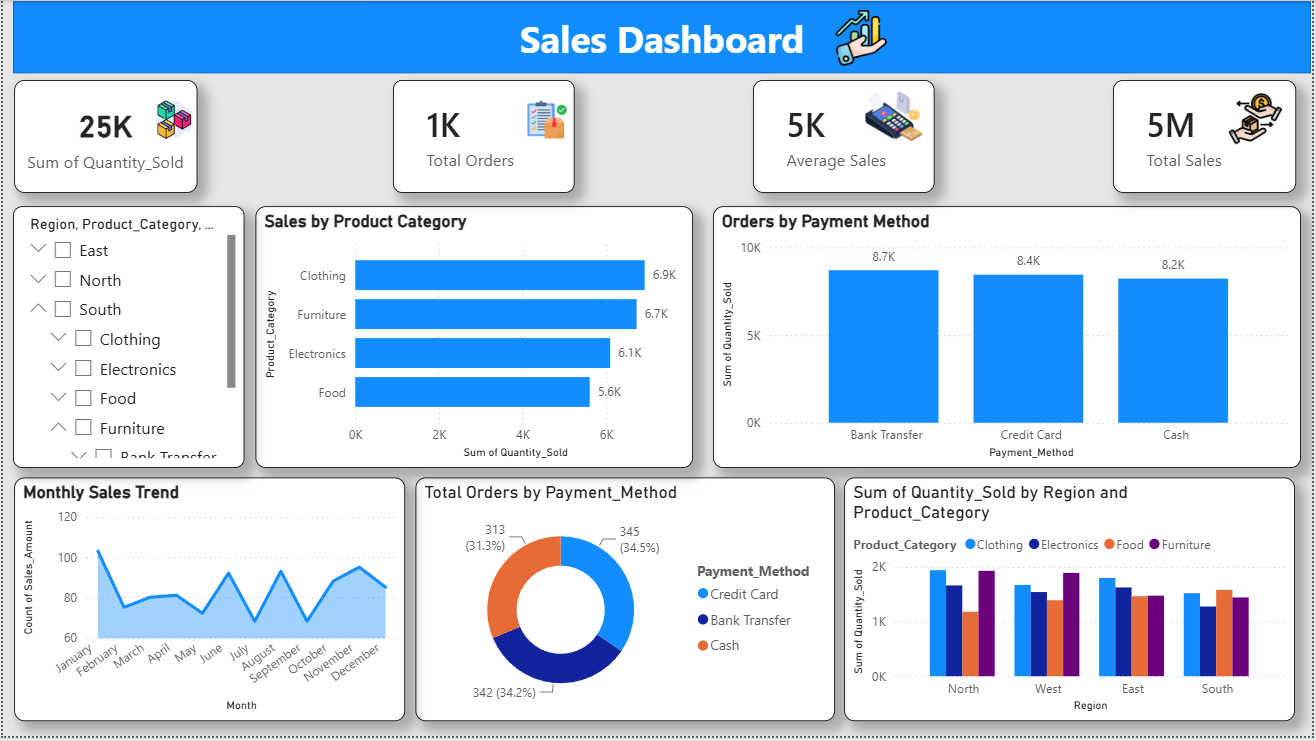

This screenshot's page, from the dashboard's own definition file:
{"tool":"powerbi","page":{"name":"Page 1","canvas":[1280,720],"ordinal":0},"visuals":[{"type":"shape","box":[10.1,1.4,1269.6,70.7],"z":0},{"type":"clusteredColumnChart","title":"Orders by Payment Method","fields":{"Category":["sales_data.Payment_Method"],"Y":["Sum(sales_data.Quantity_Sold)"]},"box":[694.2,201.2,575.6,255.8],"z":1000},{"type":"donutChart","fields":{"Category":["sales_data.Payment_Method"],"Y":["sales_data.Total Orders"]},"box":[403.5,467.4,410.5,238.4],"z":2000},{"type":"card","fields":{"Values":["Sum(sales_data.Quantity_Sold)"]},"box":[10.5,77.9,179.1,110.5],"z":3000},{"type":"clusteredBarChart","title":"Sales by Product Category","fields":{"Category":["sales_data.Product_Category"],"Y":["Sum(sales_data.Quantity_Sold)"]},"box":[246.5,201.2,427.9,255.8],"z":5000},{"type":"areaChart","title":"Monthly Sales Trend","fields":{"Category":["sales_data.Sale_Date.Variation.Date Hierarchy.Month"],"Y":["CountNonNull(sales_data.Sales_Amount)"]},"box":[10.5,467.4,382.6,238.4],"z":6000},{"type":"cardVisual","fields":{"Data":["sales_data.Total Orders"]},"box":[381.4,77.9,177.9,110.5],"z":7000},{"type":"clusteredColumnChart","fields":{"Category":["sales_data.Region"],"Series":["sales_data.Product_Category"],"Y":["Sum(sales_data.Quantity_Sold)"]},"box":[823.3,467.4,440.7,238.4],"z":8000},{"type":"slicer","fields":{"Values":["sales_data.Region","sales_data.Product_Category","sales_data.Payment_Method","sales_data.Sale_Date.Variation.Date Hierarchy.Month"]},"box":[9.3,201.2,226.7,255.8],"z":9000},{"type":"image","box":[744.2,9.3,189.5,54.7],"z":10000},{"type":"image","box":[100,97.7,134.9,38.4],"z":11000},{"type":"image","box":[460.5,97.7,143,38.4],"z":12000},{"type":"cardVisual","fields":{"Data":["sales_data.Average Sales"]},"box":[733.7,77.9,177.9,110.5],"z":13000},{"type":"image","box":[823.3,82.6,96.5,60.5],"z":14000},{"type":"cardVisual","fields":{"Data":["sales_data.Total Sales"]},"box":[1086,77.9,179.1,110.5],"z":15000},{"type":"image","box":[1175.6,89.5,100,53.5],"z":16000}]}

Visuals, with their boxes in screenshot pixels (x1, y1, x2, y2), scaled from the page's 1280x720 canvas onto the 1316x741 screenshot:
shape: detection(10, 1, 1315, 74)
"Orders by Payment Method" clusteredColumnChart: detection(714, 207, 1306, 470)
donutChart - sales_data.Payment_Method x sales_data.Total Orders: detection(415, 481, 837, 726)
card - Sum(sales_data.Quantity_Sold): detection(11, 80, 195, 194)
"Sales by Product Category" clusteredBarChart: detection(253, 207, 693, 470)
"Monthly Sales Trend" areaChart: detection(11, 481, 404, 726)
cardVisual - sales_data.Total Orders: detection(392, 80, 575, 194)
clusteredColumnChart - sales_data.Region x sales_data.Product_Category: detection(846, 481, 1300, 726)
slicer - sales_data.Region x sales_data.Product_Category: detection(10, 207, 243, 470)
image: detection(765, 10, 960, 66)
image: detection(103, 101, 242, 140)
image: detection(473, 101, 620, 140)
cardVisual - sales_data.Average Sales: detection(754, 80, 937, 194)
image: detection(846, 85, 946, 147)
cardVisual - sales_data.Total Sales: detection(1117, 80, 1301, 194)
image: detection(1209, 92, 1311, 147)
